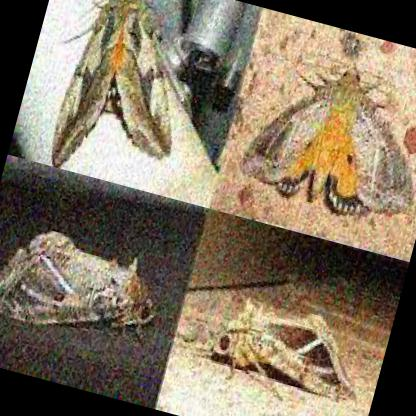fruit sucking moth: (243, 66, 411, 218), (53, 0, 170, 167)
